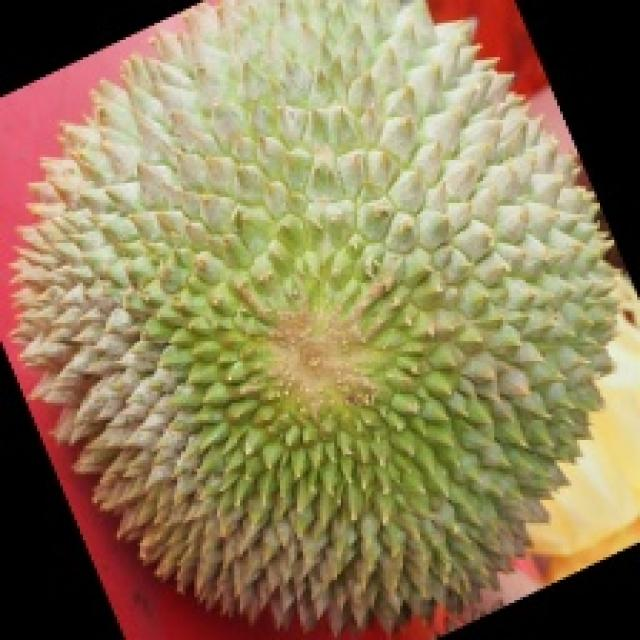d175: (17, 34, 617, 626)
